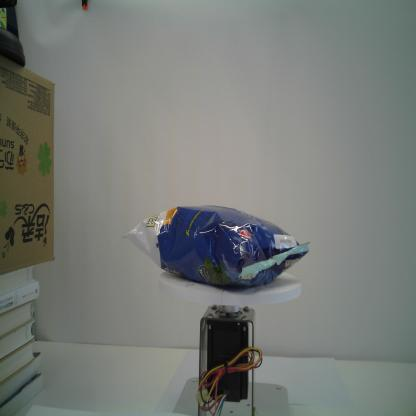Puffed Food: (122, 204, 310, 292)
